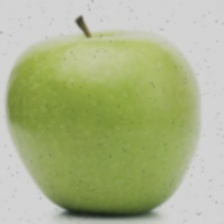apple: (32, 15, 182, 183)
